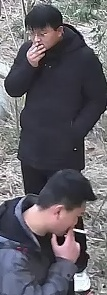smoking: (22, 163, 106, 277), (5, 3, 84, 85)
